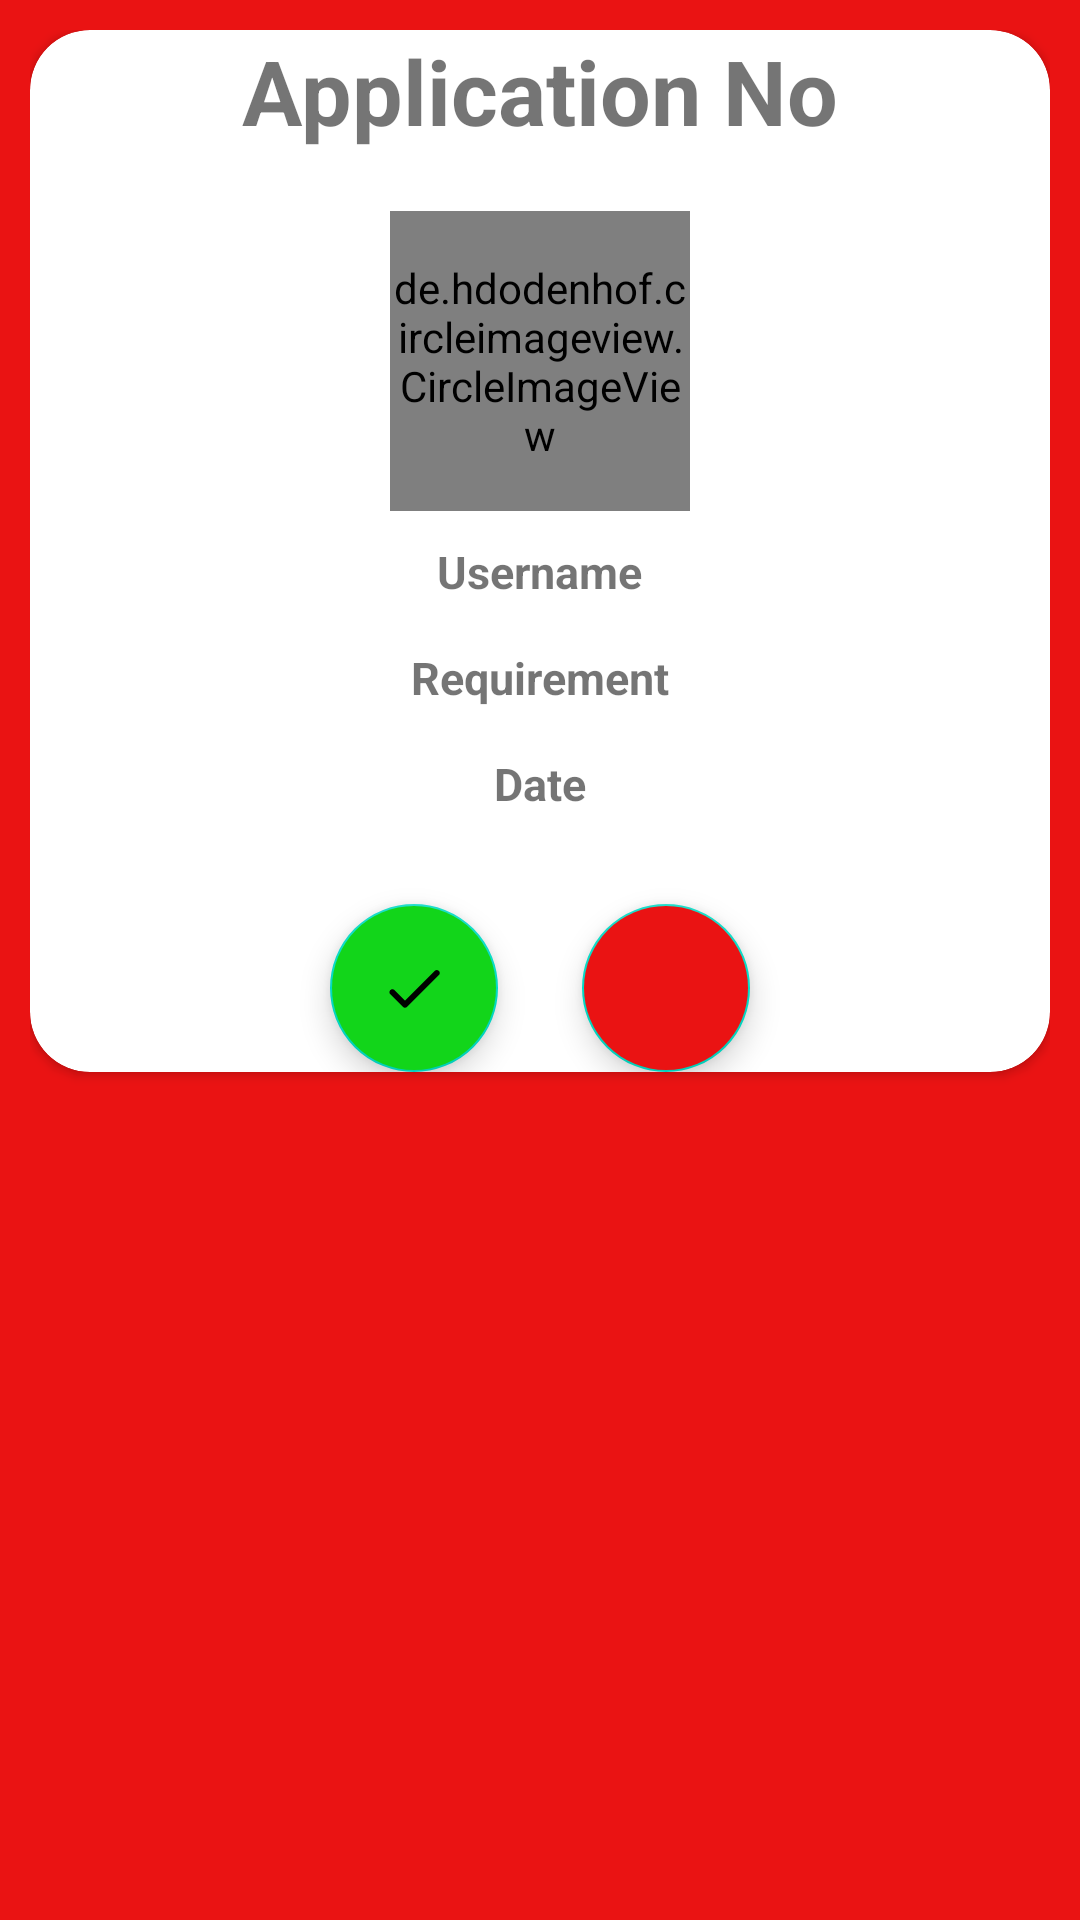

Icons on this 1080w x 1920h Android screen, each with the point to tap as (x=x, y=y):
accept: (x=414, y=988)
